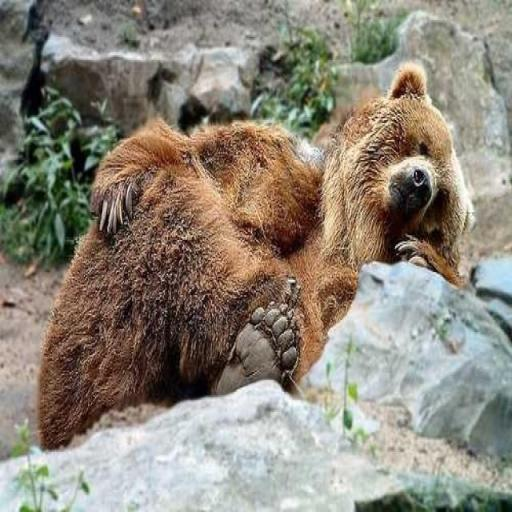Bear: (36, 62, 474, 450)
